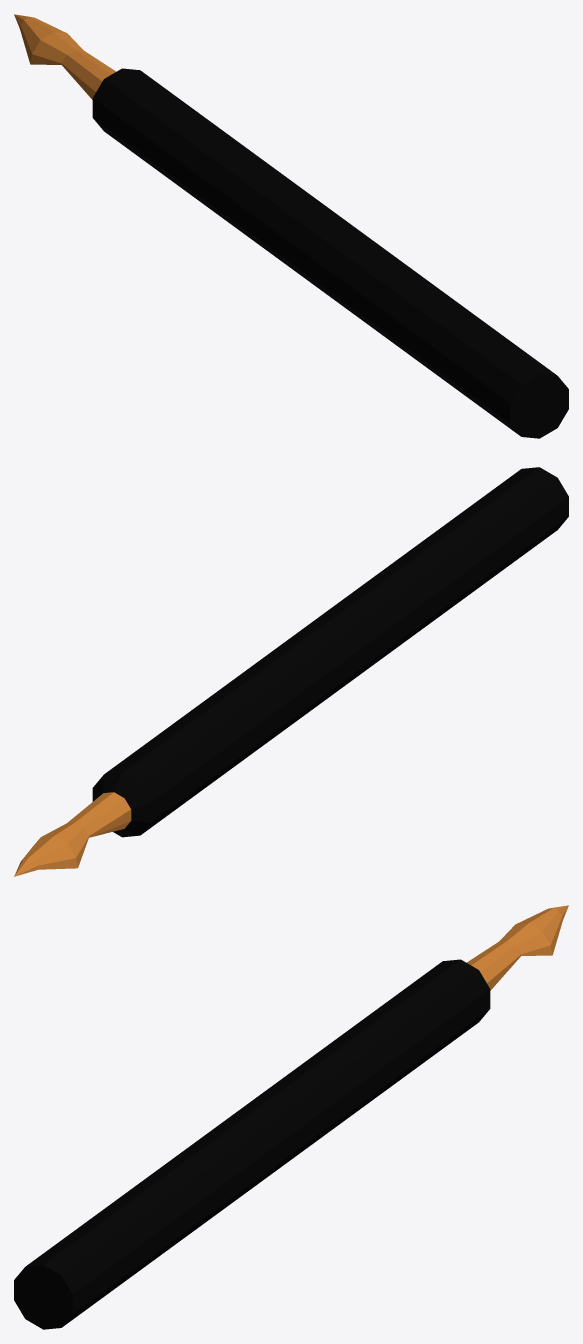
File: penink01.obj
3 views of the same model, one above another, from view 1: azimuth 30°, elevation 25°; view 2: azimuth 150°, elevation 25°; view 3: azimuth 330°, elevation 25° (orthographic).
Parts seen in each view (by area): view 1: Cylinder.001; view 2: Cylinder.001; view 3: Cylinder.001.
Part boxes in pixels (x1=…): Cylinder.001: x1=14, y1=14, x2=568, y2=438; Cylinder.001: x1=14, y1=467, x2=568, y2=876; Cylinder.001: x1=14, y1=905, x2=568, y2=1329.
Size of the model in its own units: 0.00797 by 0.00838 by 0.1234.
